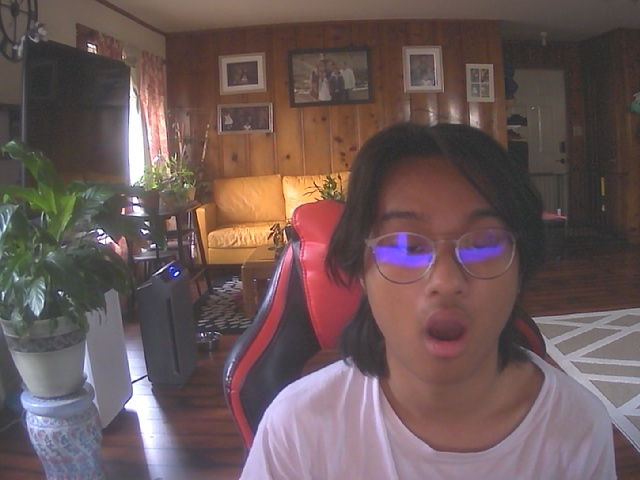fear: (354, 137, 537, 386)
